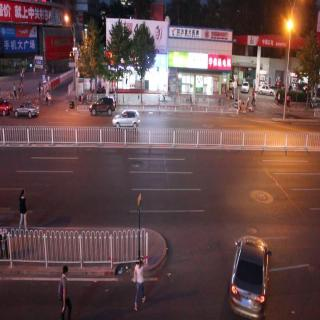Car: (232, 235, 271, 316), (111, 109, 141, 131), (89, 97, 115, 120), (15, 102, 39, 120), (258, 81, 275, 100), (242, 78, 250, 94)
